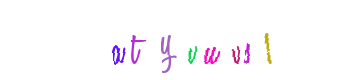1: (227, 0, 307, 80)
A: (78, 0, 158, 80)
S: (196, 0, 276, 80)
T: (130, 0, 210, 80)
U: (152, 0, 232, 80)
V: (147, 0, 227, 80), (171, 0, 251, 80)
Y: (134, 0, 214, 80)
